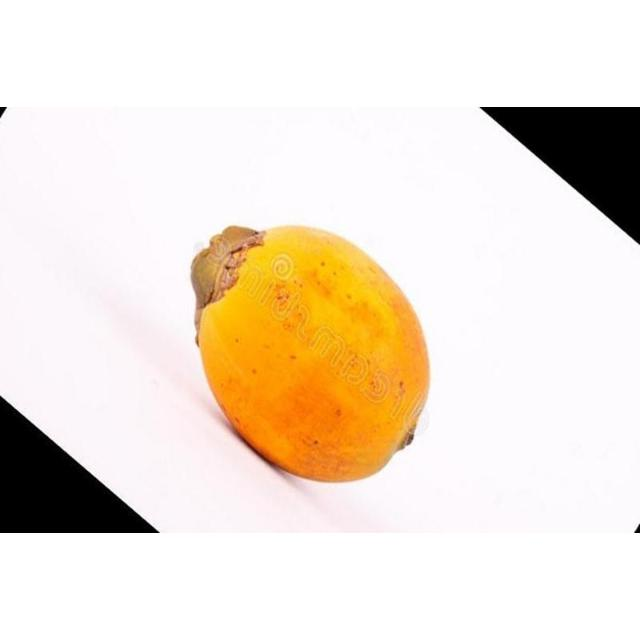good: (191, 226, 431, 485)
